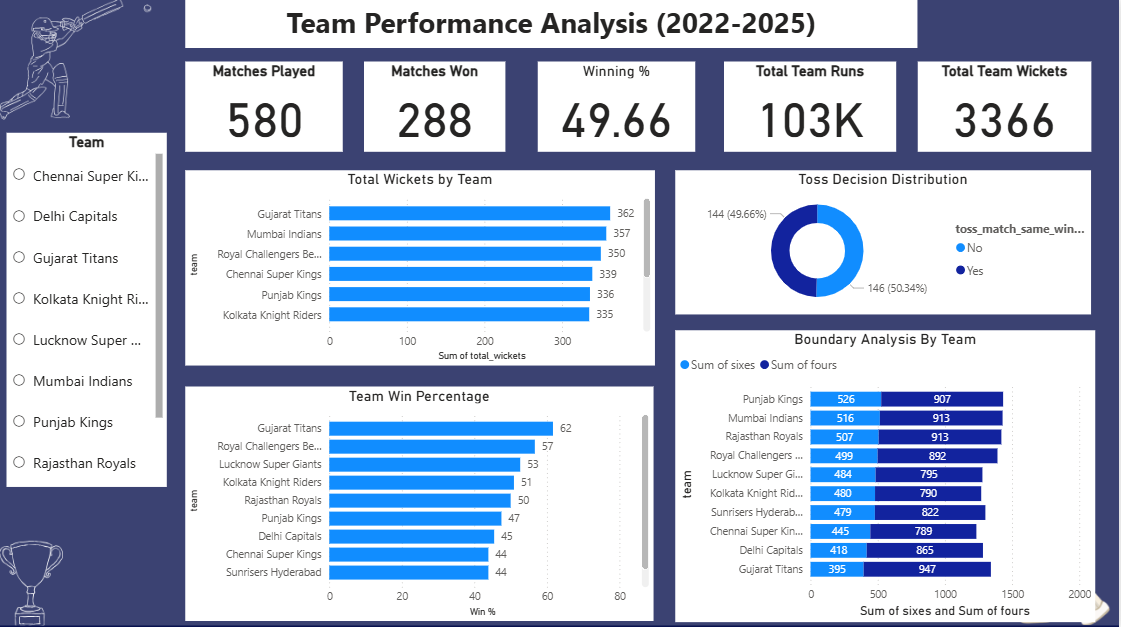

This screenshot's page, from the dashboard's own definition file:
{"tool":"powerbi","page":{"name":"Team Performance Analysis","canvas":[1280,720],"ordinal":1},"visuals":[{"type":"textbox","box":[213.2,0,837,56.1],"z":0},{"type":"listSlicer","fields":{"Values":["Teams.Team"]},"box":[8.3,153.3,183.3,405],"z":2000},{"type":"card","title":"Matches Played","fields":{"Values":["team_performance.Matches Played"]},"box":[213.3,71.7,180,103.3],"z":3000},{"type":"card","title":"Matches Won","fields":{"Values":["team_performance.Maches won"]},"box":[416.7,71.7,161.7,103.3],"z":4000},{"type":"card","title":"Winning %","fields":{"Values":["team_performance.Win %"]},"box":[615,71.7,180,103.3],"z":5000},{"type":"card","title":"Total Team Wickets","fields":{"Values":["team_performance.Team Wickets"]},"box":[1050,71.7,198.3,103.3],"z":6000},{"type":"card","title":"Total Team Runs","fields":{"Values":["team_performance.Team Runs"]},"box":[828.3,71.7,196.7,103.3],"z":7000},{"type":"clusteredBarChart","title":"Total Wickets by Team","fields":{"Category":["team_performance.team"],"Y":["Sum(team_performance.total_wickets)"]},"box":[213.3,195,536.7,223.3],"z":8000},{"type":"barChart","title":"Boundary Analysis By Team","fields":{"Category":["team_performance.team"],"Y":["Sum(team_performance.sixes)","Sum(team_performance.fours)"]},"box":[773.3,378.3,480,333.3],"z":10000},{"type":"donutChart","title":"Toss Decision Distribution","fields":{"Y":["match_summary (1).Total Matches"],"Category":["match_summary (1).toss_match_same_winner"]},"box":[773.3,195,475,165],"z":11000},{"type":"barChart","title":"Team Win Percentage","fields":{"Y":["team_performance.Win %"],"Category":["team_performance.team"]},"box":[213.3,443.3,535,268.3],"z":12000}]}

Visuals, with their boxes in screenshot pixels (x1, y1, x2, y2), scaled from the page's 1280x720 canvas onto the 1121x627 screenshot:
textbox: [x1=187, y1=0, x2=920, y2=49]
listSlicer - Teams.Team: [x1=7, y1=133, x2=168, y2=486]
"Matches Played" card: [x1=187, y1=62, x2=344, y2=152]
"Matches Won" card: [x1=365, y1=62, x2=507, y2=152]
"Winning %" card: [x1=539, y1=62, x2=696, y2=152]
"Total Team Wickets" card: [x1=920, y1=62, x2=1093, y2=152]
"Total Team Runs" card: [x1=725, y1=62, x2=898, y2=152]
"Total Wickets by Team" clusteredBarChart: [x1=187, y1=170, x2=657, y2=364]
"Boundary Analysis By Team" barChart: [x1=677, y1=329, x2=1098, y2=620]
"Toss Decision Distribution" donutChart: [x1=677, y1=170, x2=1093, y2=314]
"Team Win Percentage" barChart: [x1=187, y1=386, x2=655, y2=620]
